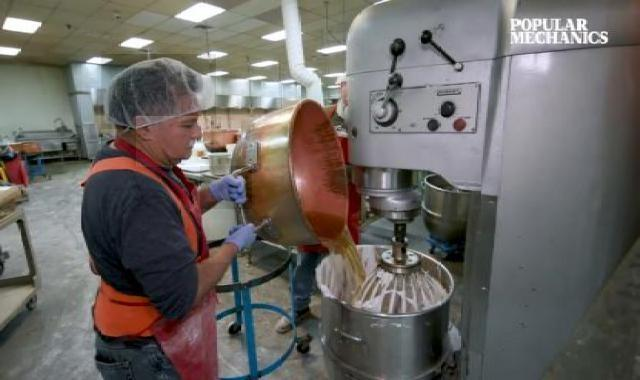apron: (200, 166, 252, 209), (209, 220, 261, 262)
gloves: (101, 54, 216, 129)
no_hairnet: (136, 116, 211, 167)
